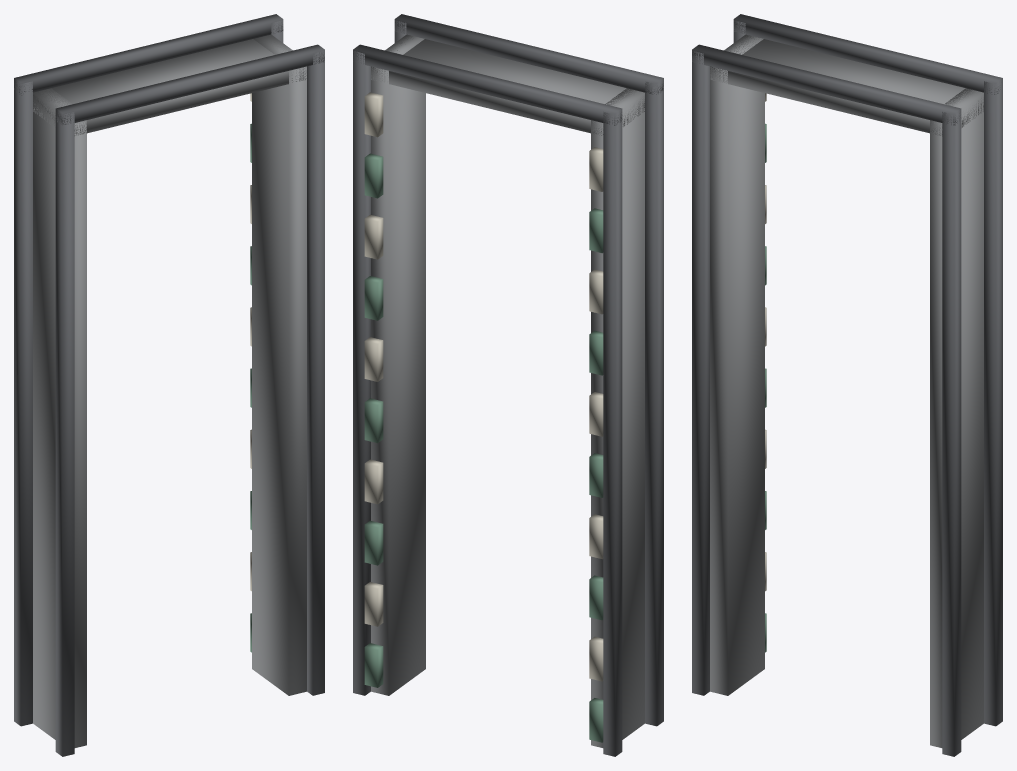
The model's file is doorway_tile_return_w76_h220_d24.glb.
3 views of the same model, side by side, from view 1: azimuth 30°, elevation 25°; view 2: azimuth 150°, elevation 25°; view 3: azimuth 330°, elevation 25° (orthographic).
Parts seen in each view (by area): view 1: world; view 2: world; view 3: world.
Part boxes in pixels (<box>): world: <box>14,14,324,756</box>; world: <box>353,14,663,756</box>; world: <box>692,14,1002,756</box>.
Bounding box in the file's own units: 0.9868 × 2.31 × 0.3207.
